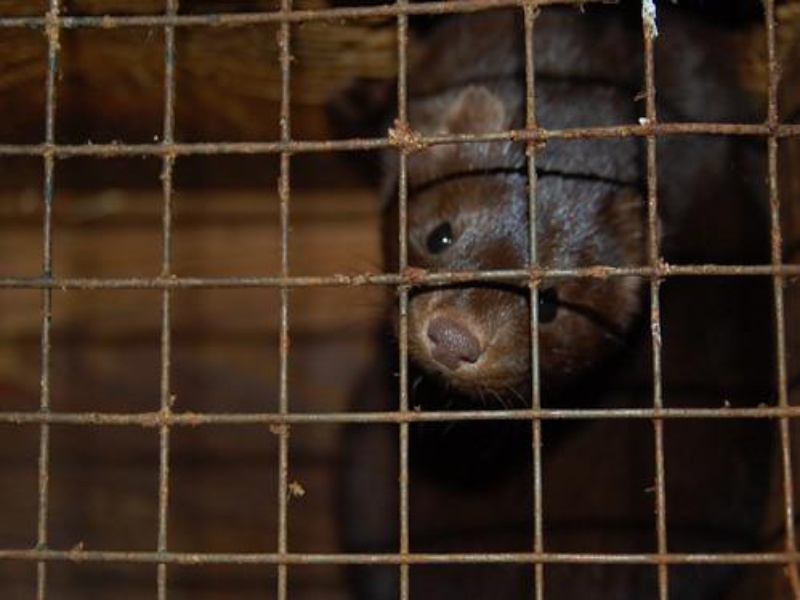minkish: (372, 86, 792, 591)
